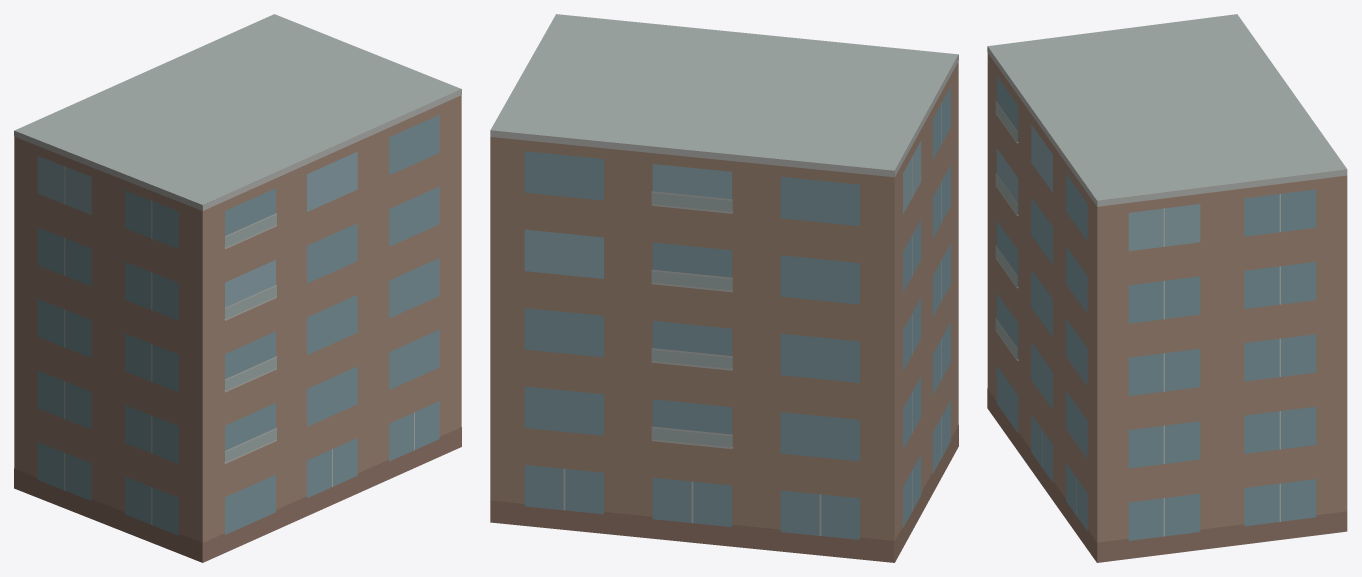
File: survey-upis-33036815.glb
The picture shows the model from 3 angles, left to right: view 1: azimuth 30°, elevation 25°; view 2: azimuth 150°, elevation 25°; view 3: azimuth 270°, elevation 25°; orthographic projection. The views are drawn at different scales.
Parts seen in each view (by area): view 1: survey-upis-33036815.tmp; view 2: survey-upis-33036815.tmp; view 3: survey-upis-33036815.tmp.
Part boxes in pixels (left/top/right/bottom): survey-upis-33036815.tmp: left=14, top=14, right=461, bottom=562; survey-upis-33036815.tmp: left=490, top=14, right=958, bottom=562; survey-upis-33036815.tmp: left=987, top=14, right=1347, bottom=562.
Bounding box in the file's own units: 15.99 × 14.45 × 13.03.
